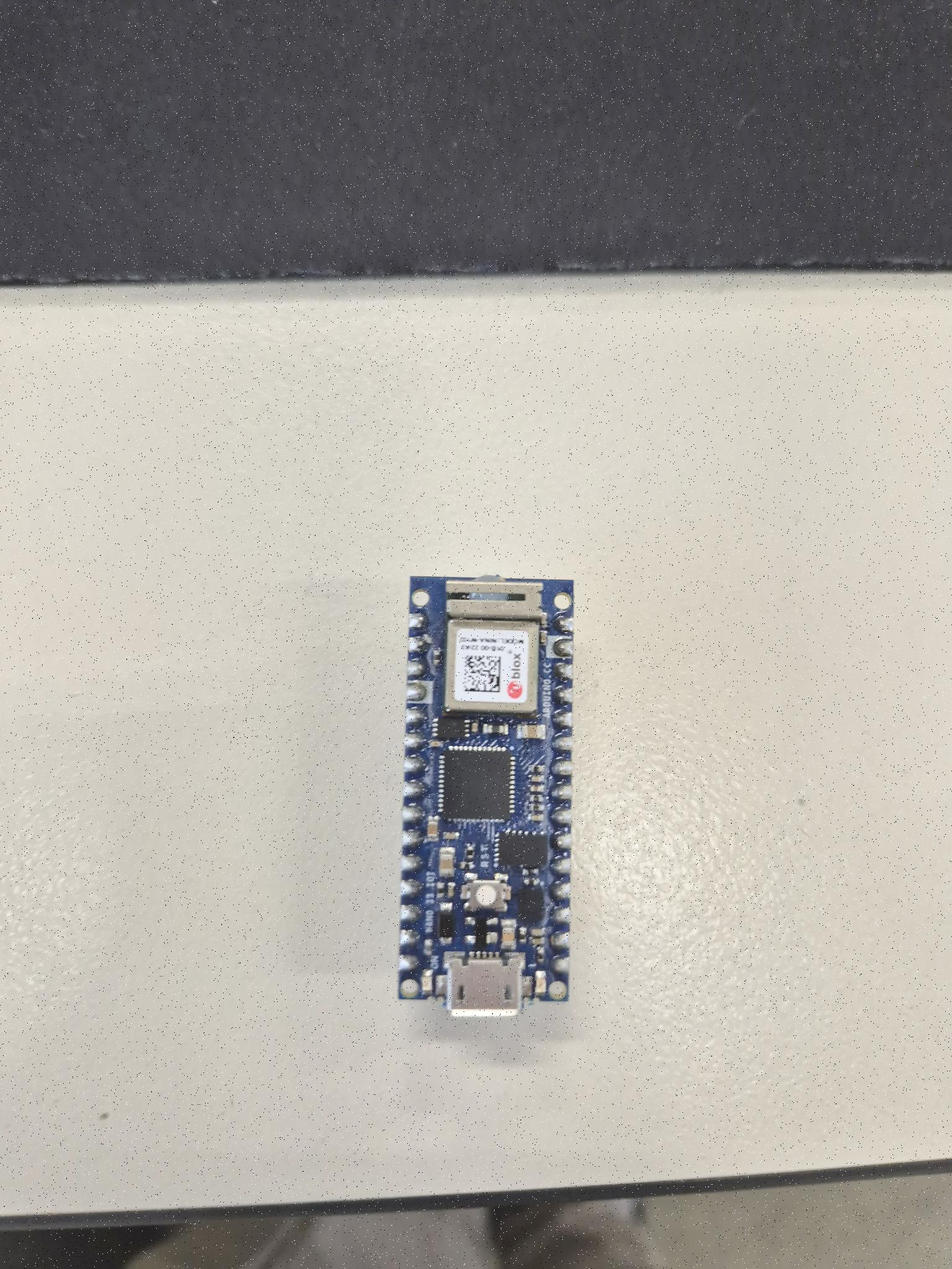arduino-nano-iot-33: (405, 573, 573, 1009)
